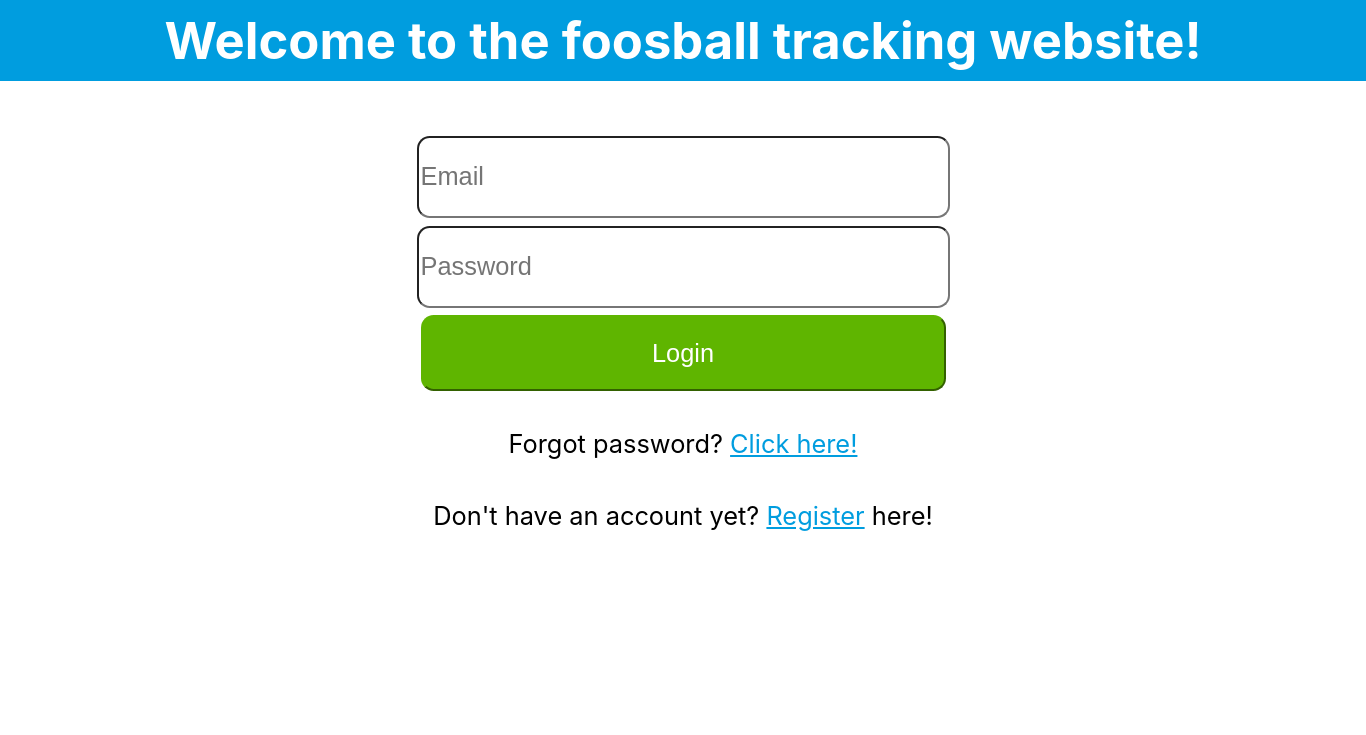
it: forwards to admin dashboard when user is admin
The width and height of the screenshot is (1366, 735).
Step 1. Type "test1@gmail.com" into the field with placeholder "Email" → (683, 177), box [416,136,950,218]
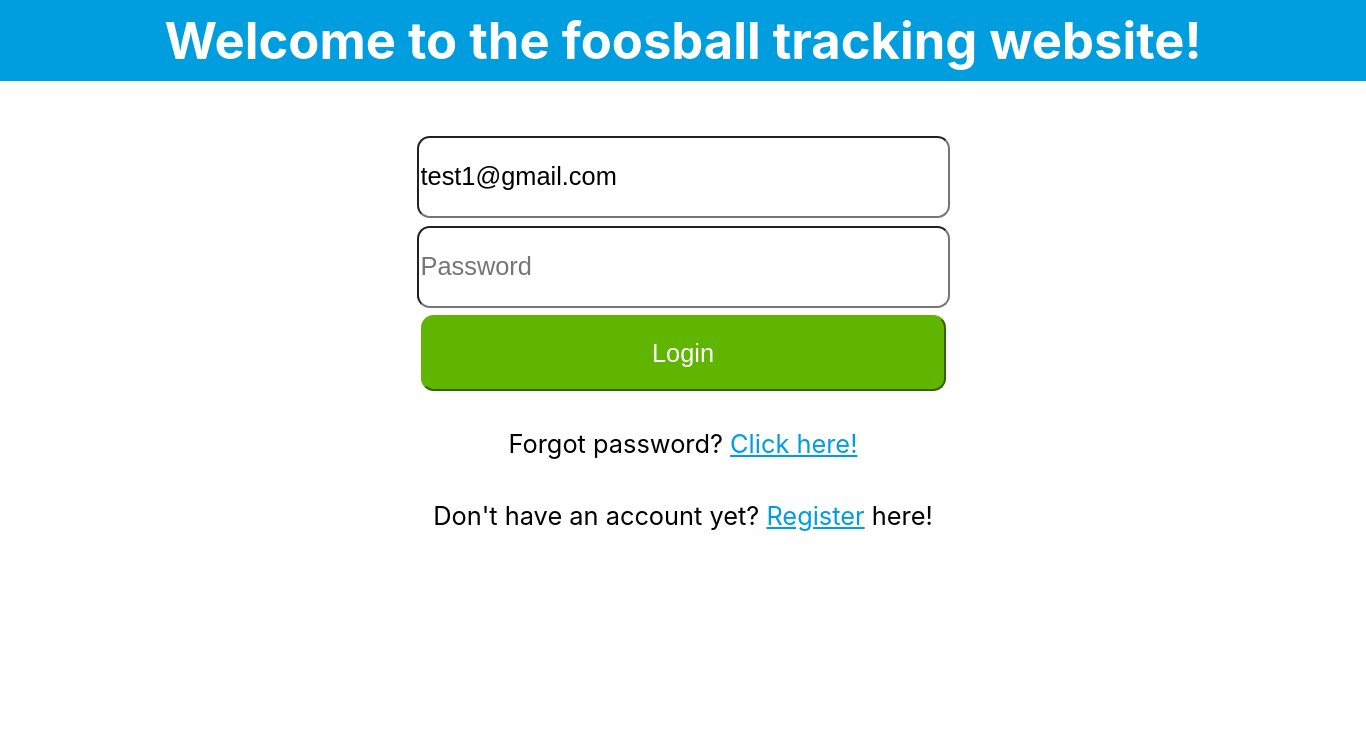
Step 2. Type "123456789" into the password field with placeholder "Password" → (683, 267), box [416,226,950,308]
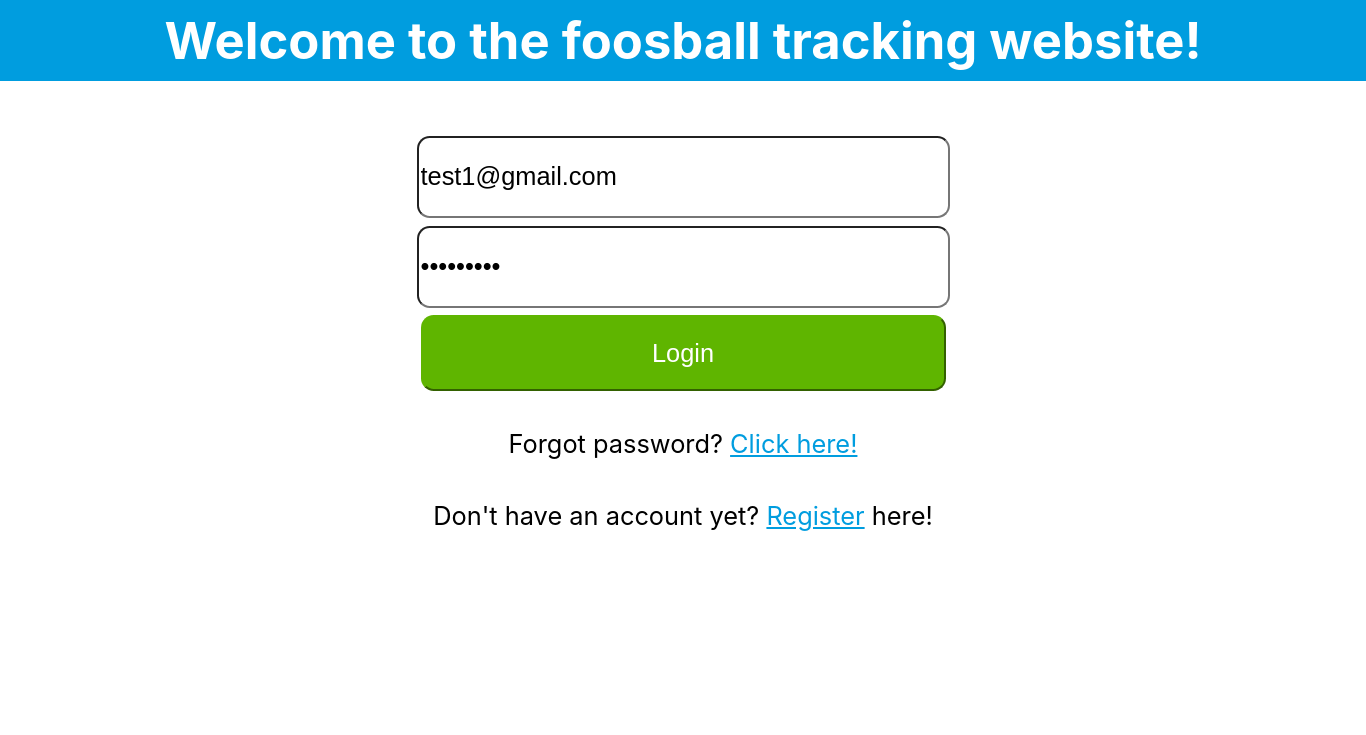
Step 3. Click the button "Login" → (683, 353), box [420,315,946,391]
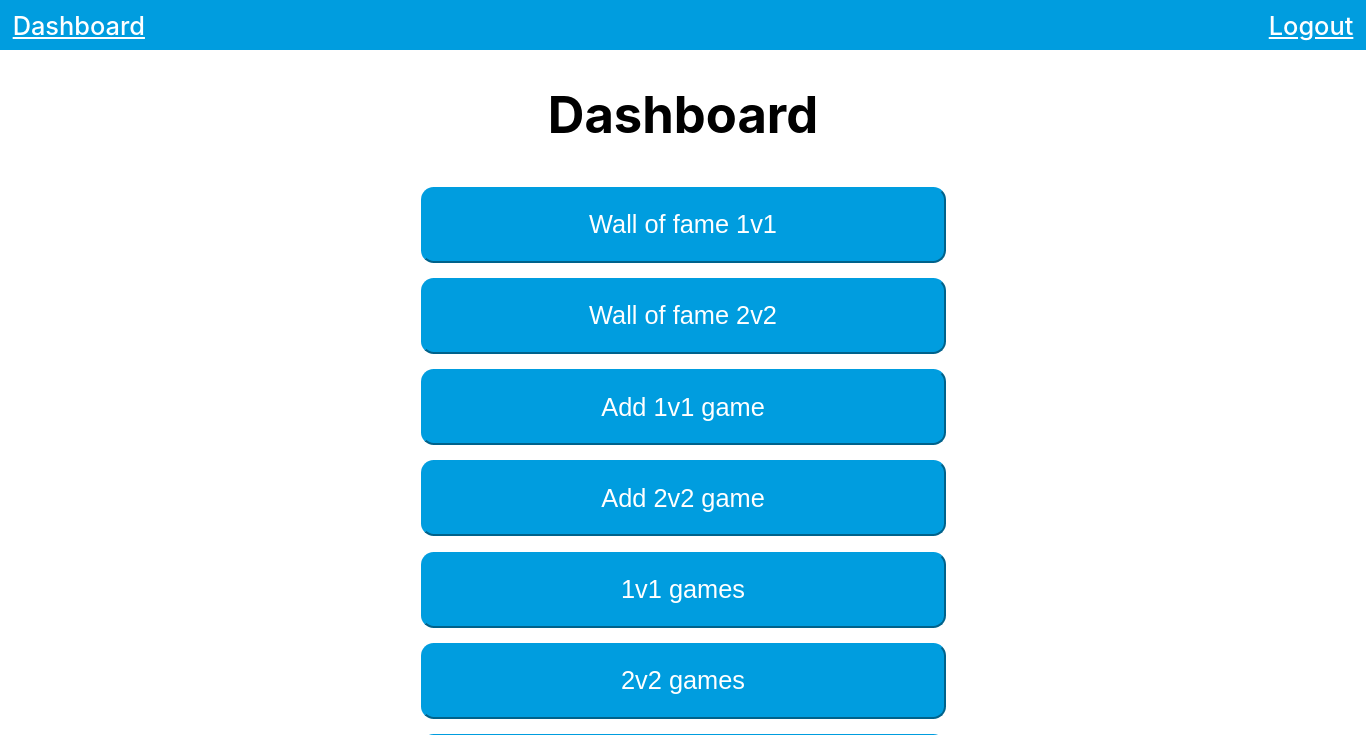
Now the heading "Dashboard" is shown, box [333,84,1033,145]
